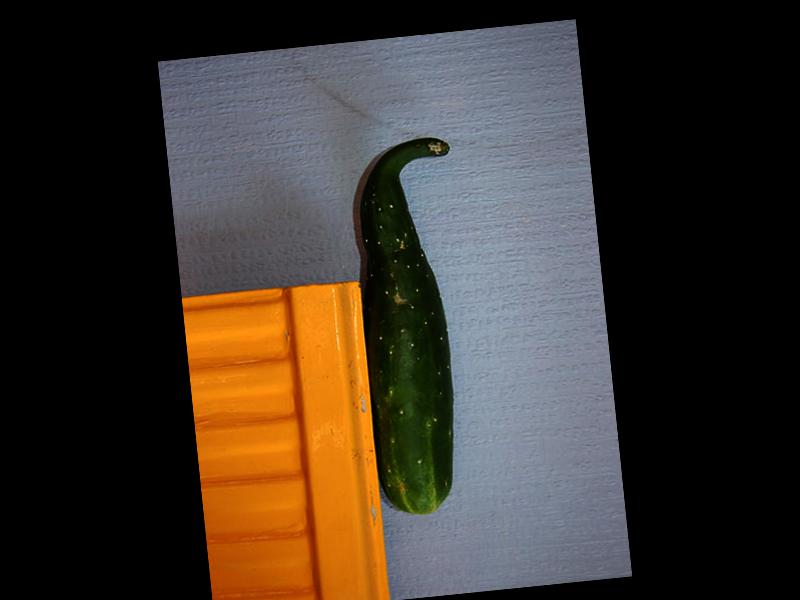Cucumber: (344, 134, 486, 515)
